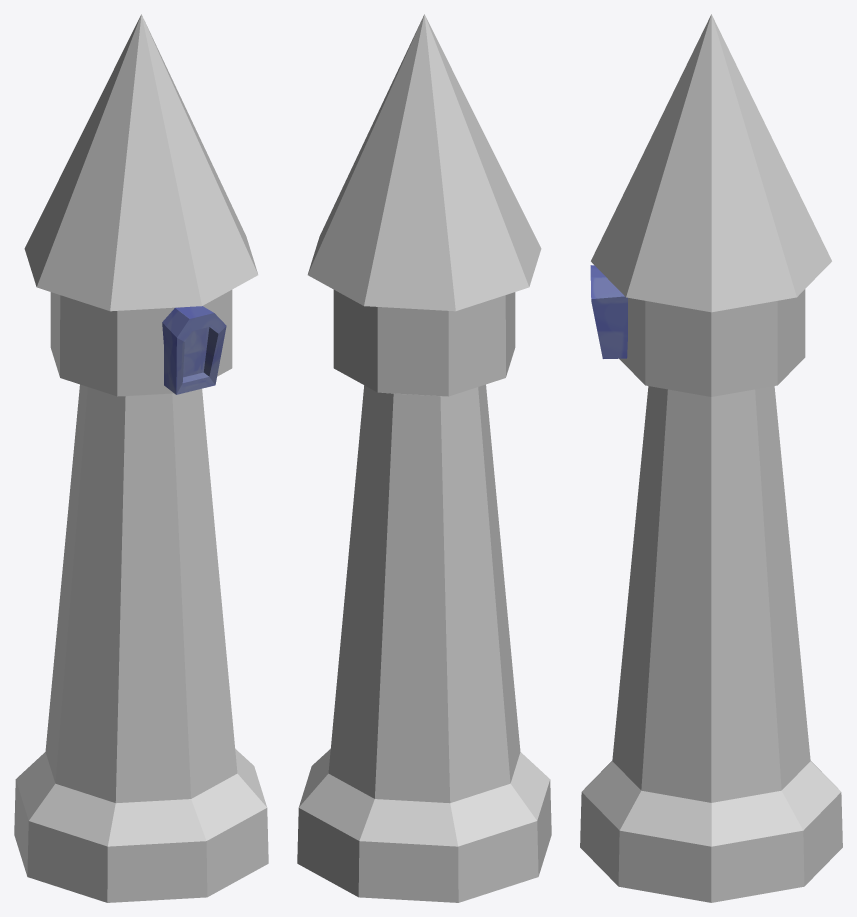
The model's file is Wizardtower.fbx.
3 renders of one model, left to right at view 1: azimuth 30°, elevation 25°; view 2: azimuth 150°, elevation 25°; view 3: azimuth 270°, elevation 25°, orthographic.
Visible parts, largest first — view 1: Cylinder, Cube; view 2: Cylinder; view 3: Cylinder, Cube.
Boxes of the visible parts, x1,y1,x2,y2 form: Cylinder: (14, 14, 268, 902); Cube: (162, 306, 226, 394); Cylinder: (297, 14, 551, 902); Cylinder: (580, 14, 842, 902); Cube: (590, 265, 627, 358).
Size of the model in its own units: 240 by 838 by 240.
Materials: 2 (1 with a texture image).
